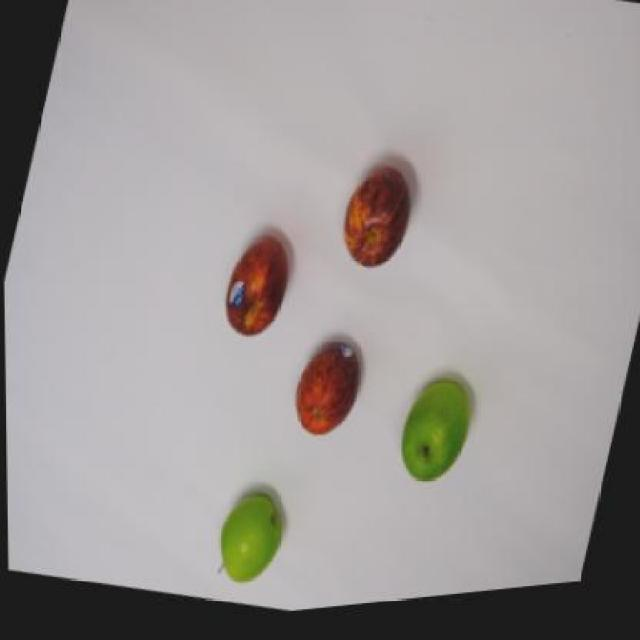Fresh Apple: (403, 385, 472, 483), (215, 495, 283, 583)
Rotten: (225, 246, 292, 334), (351, 176, 411, 266)
